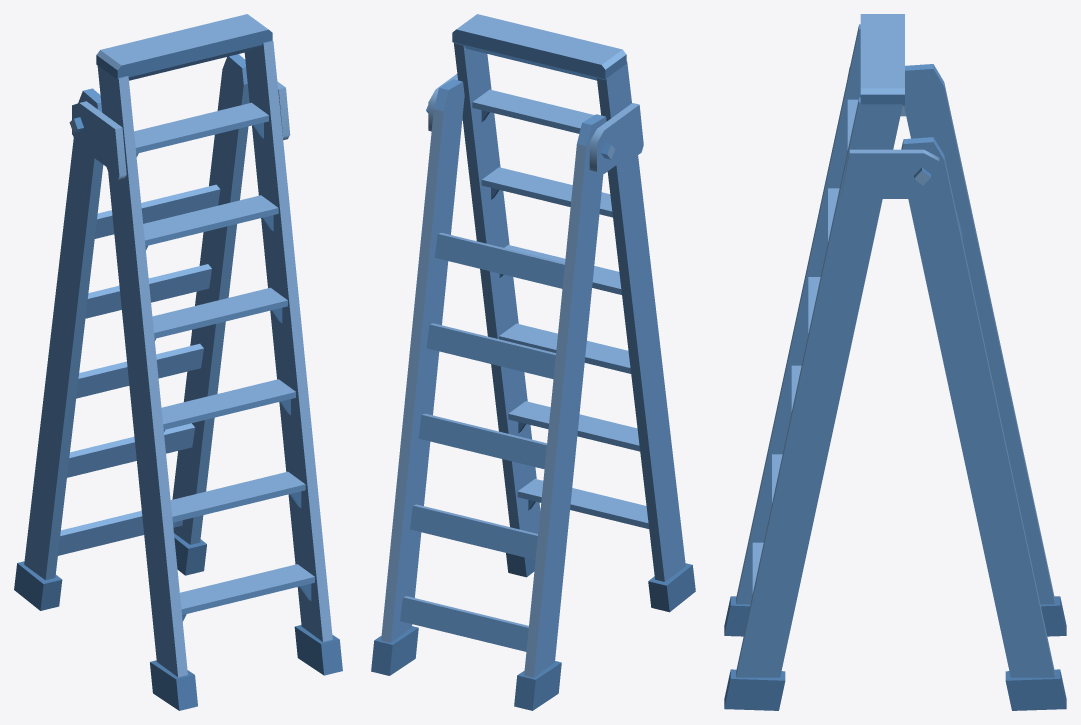
Rendered from SR_Stairs_01.fbx.
The picture shows the model from 3 angles, left to right: view 1: azimuth 30°, elevation 25°; view 2: azimuth 150°, elevation 25°; view 3: azimuth 270°, elevation 25°; orthographic projection. The views are drawn at different scales.
Parts seen in each view (by area): view 1: SR_Stairs_01; view 2: SR_Stairs_01; view 3: SR_Stairs_01.
Part boxes in pixels (x1,y1,x2,y2): SR_Stairs_01: [14, 14, 342, 710]; SR_Stairs_01: [371, 14, 695, 710]; SR_Stairs_01: [724, 14, 1066, 710].
Bounding box in the file's own units: 78.59 × 244 × 123.
